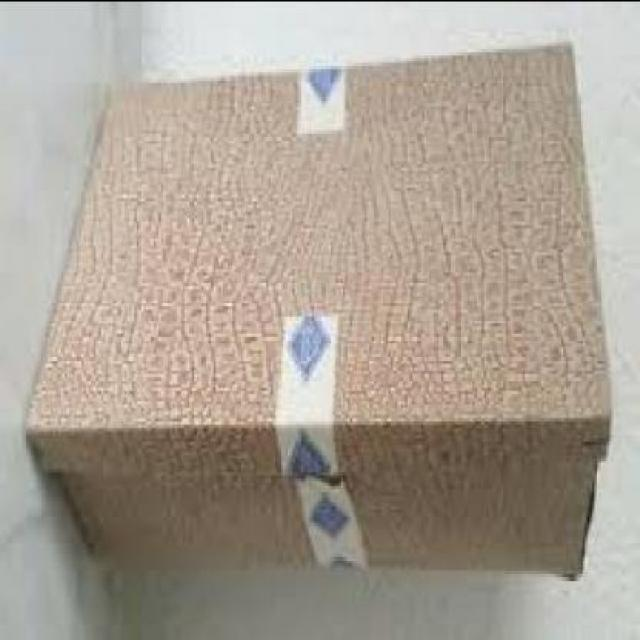box: (29, 34, 617, 572)
